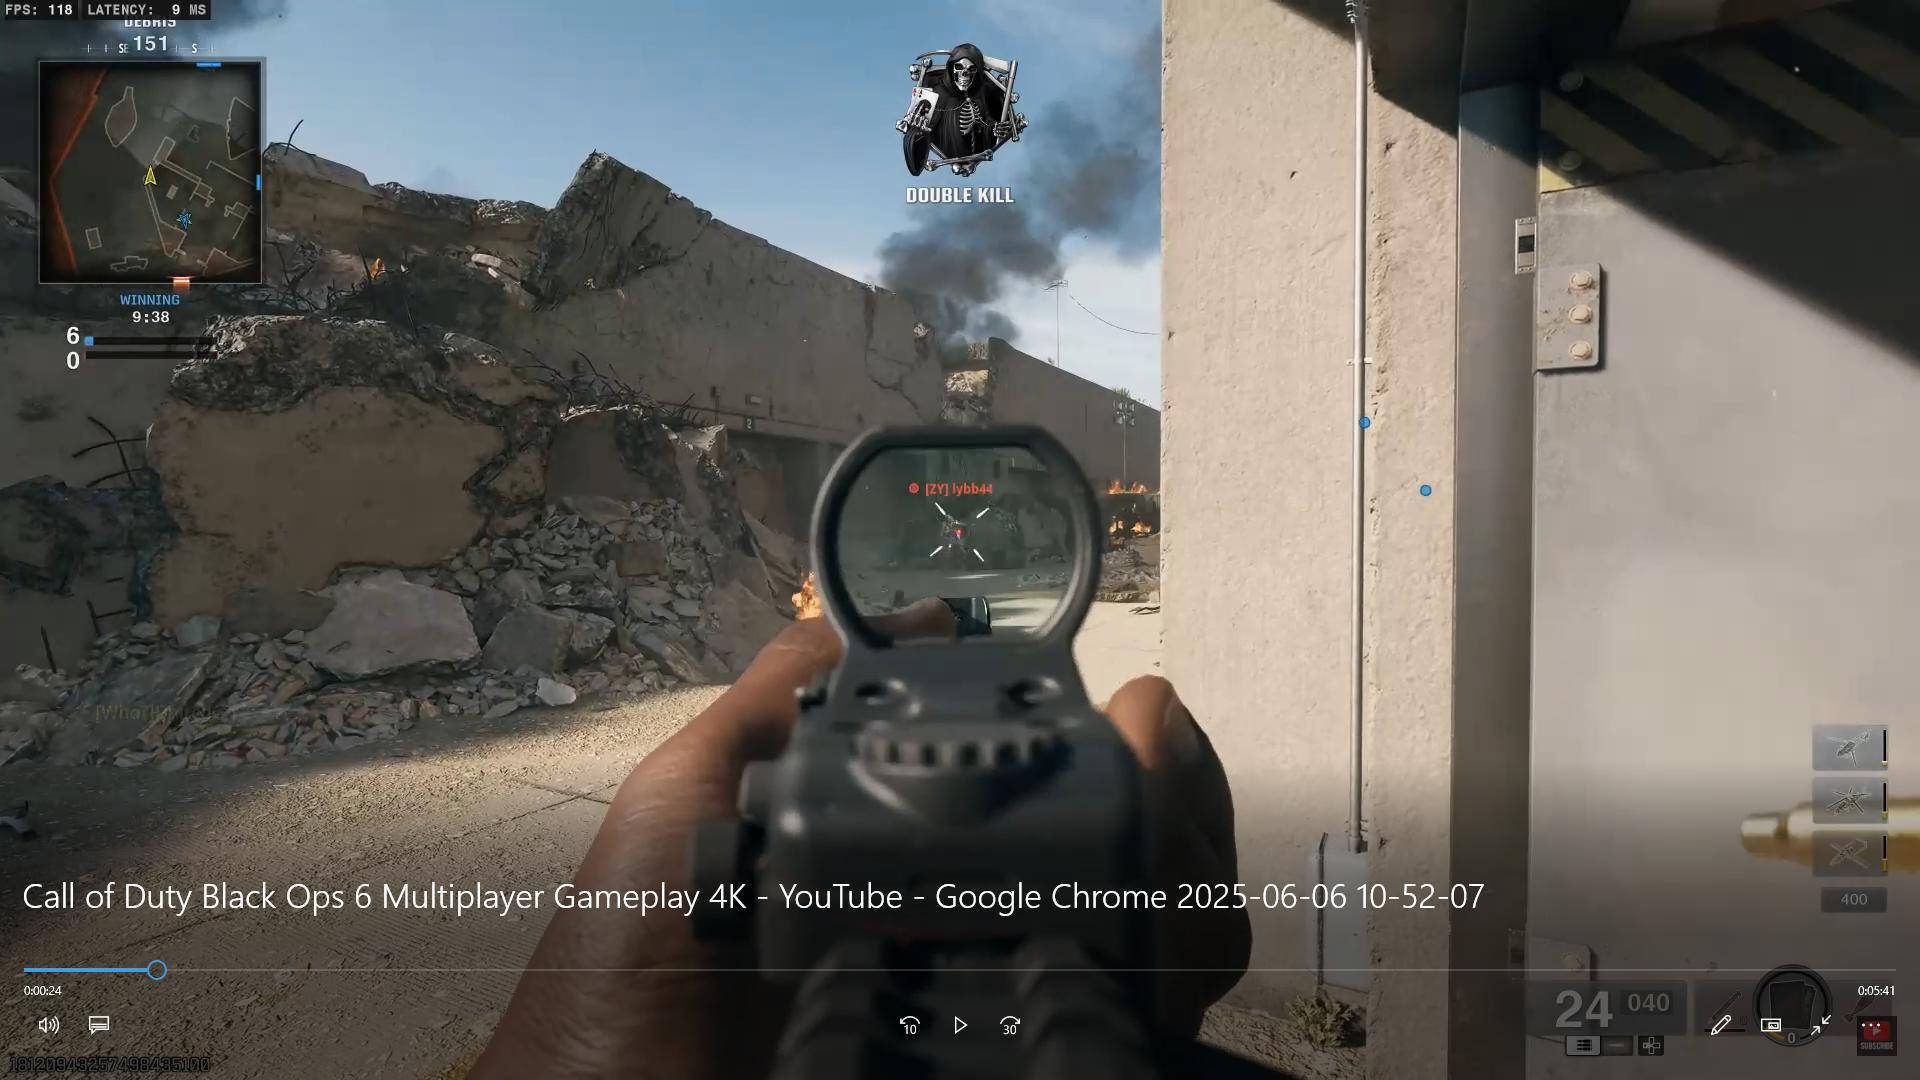Enemy: (914, 472, 994, 578)
